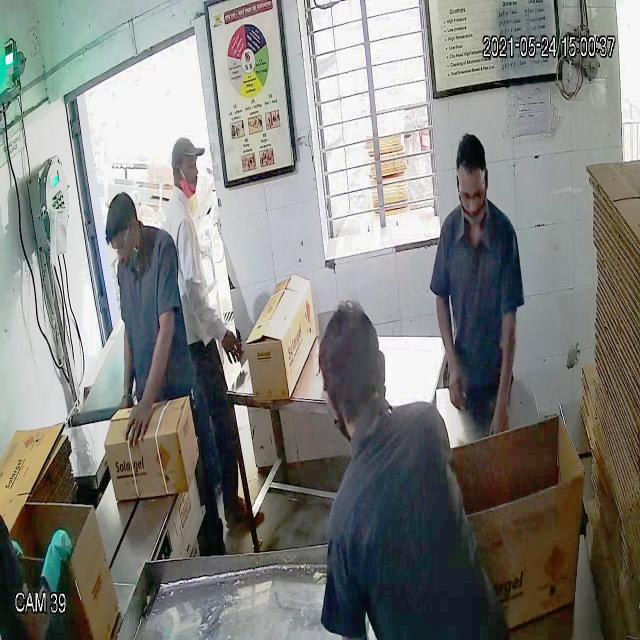glasses: (455, 177, 491, 211)
